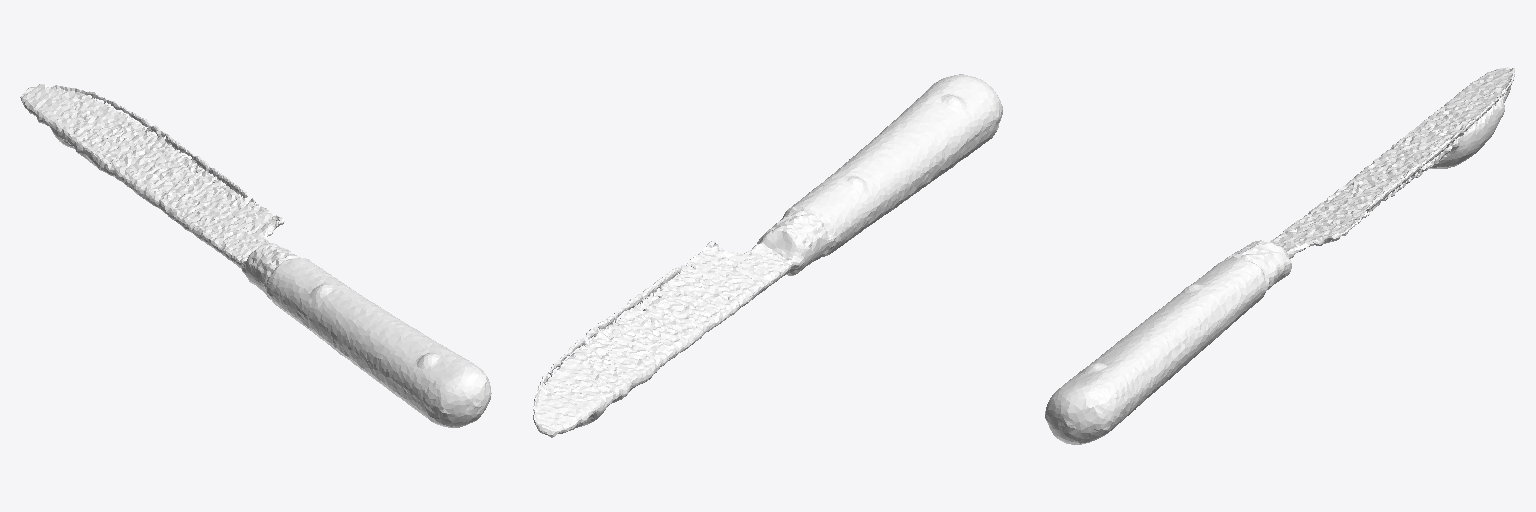
robot.urdf — knife:
<robot name="knife">
    <link name="base_link">
        <visual>
            <origin xyz="-0.0 0.0 0.0" rpy="0.0 0.0 0.0" />
            <geometry>
                <mesh filename="knife/textured.obj" scale="1 1 1" />
            </geometry>
            <material name="texture">
                <color rgba="1.0 1.0 1.0 1.0" />
            </material>
        </visual>
        <collision>
            <origin xyz="-0.0 0.0 0.0" rpy="0.0 0.0 0.0" />
            <geometry>
                <mesh filename="knife/textured_coacd_0.stl" scale="1 1 1" />
            </geometry>
        </collision>
        <collision>
            <origin xyz="-0.0 0.0 0.0" rpy="0.0 0.0 0.0" />
            <geometry>
                <mesh filename="knife/textured_coacd_1.stl" scale="1 1 1" />
            </geometry>
        </collision>
        <inertial>
            <mass value="0.031" />
            <inertia ixx="1e-3" ixy="0.0" ixz="0.0" iyy="1e-3" iyz="0.0" izz="1e-3" />
        </inertial>
    </link>
</robot>

--- Facts derived from the render (not from the file) ---
Views: 3 orthographic renders of the robot side by side, from view 1: azimuth 30°, elevation 25°; view 2: azimuth 150°, elevation 25°; view 3: azimuth 330°, elevation 25°.
Robot: knife — 1 links, 0 joints (none); root link base_link; default pose: every joint at zero.
Links seen in each view (by area): view 1: base_link; view 2: base_link; view 3: base_link.
Boxes of the visible links, <box> form: base_link: <box>20,84,491,427</box>; base_link: <box>533,74,1002,437</box>; base_link: <box>1045,67,1514,444</box>.
Bounding box of the posed robot: 0.0195 × 0.2149 × 0.0153 m (x, y, z).
Meshes: 1 distinct files referenced, 1 mesh visuals loaded (1 OBJ).